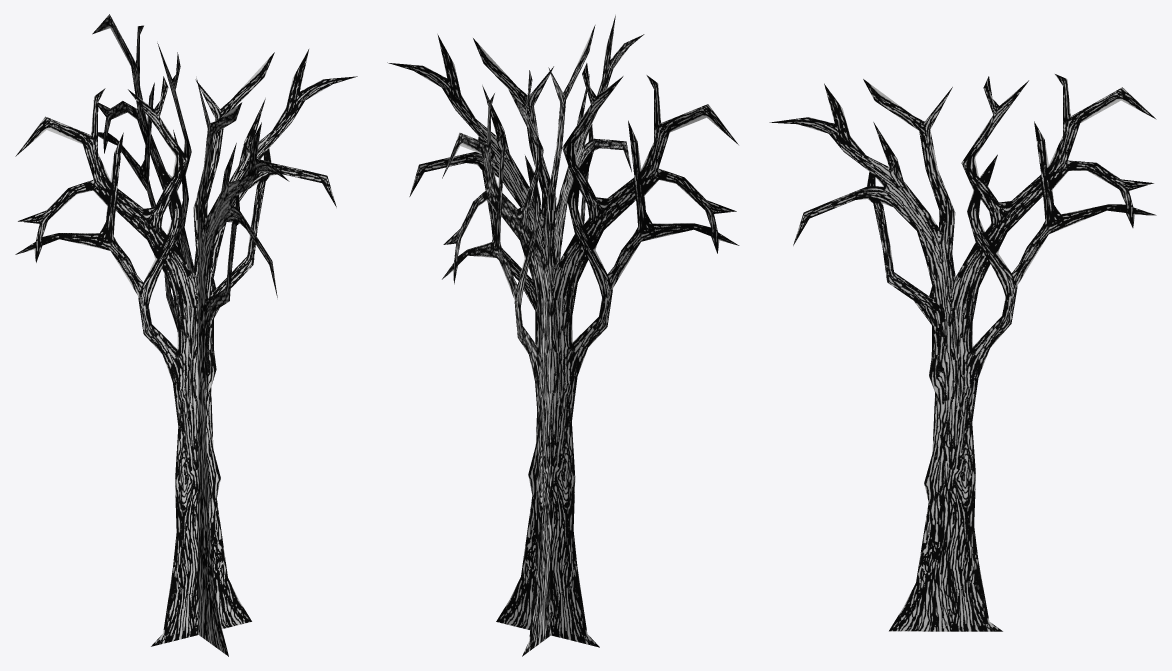
Rendered from tree1.obj.
The picture shows the model from 3 angles, left to right: view 1: azimuth 30°, elevation 25°; view 2: azimuth 150°, elevation 25°; view 3: azimuth 270°, elevation 25°; orthographic projection. The views are drawn at different scales.
Visible parts, largest first — view 1: Plane.012; view 2: Plane.012; view 3: Plane.012.
Boxes of the visible parts, x1,y1,x2,y2 form: Plane.012: (15,14,357,656); Plane.012: (387,15,739,656); Plane.012: (769,74,1156,631).
Bounding box in the file's own units: 3.97 × 6.29 × 3.97.
Materials: 2 (2 with a texture image).
